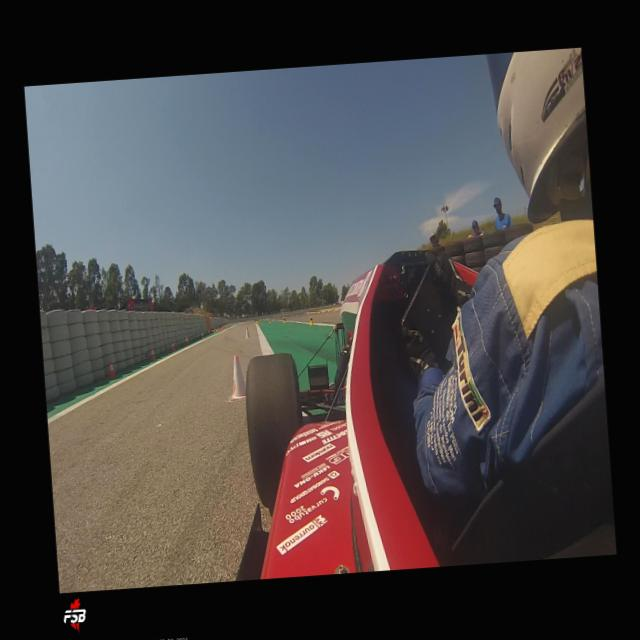orange_cone: (108, 358, 115, 378), (150, 346, 155, 361), (170, 339, 175, 352), (184, 335, 188, 345), (200, 331, 203, 338)
unknown_cone: (228, 354, 246, 399), (243, 327, 250, 338)
yellow_cone: (308, 316, 314, 325), (282, 315, 286, 323), (268, 316, 271, 324), (256, 319, 258, 324)
